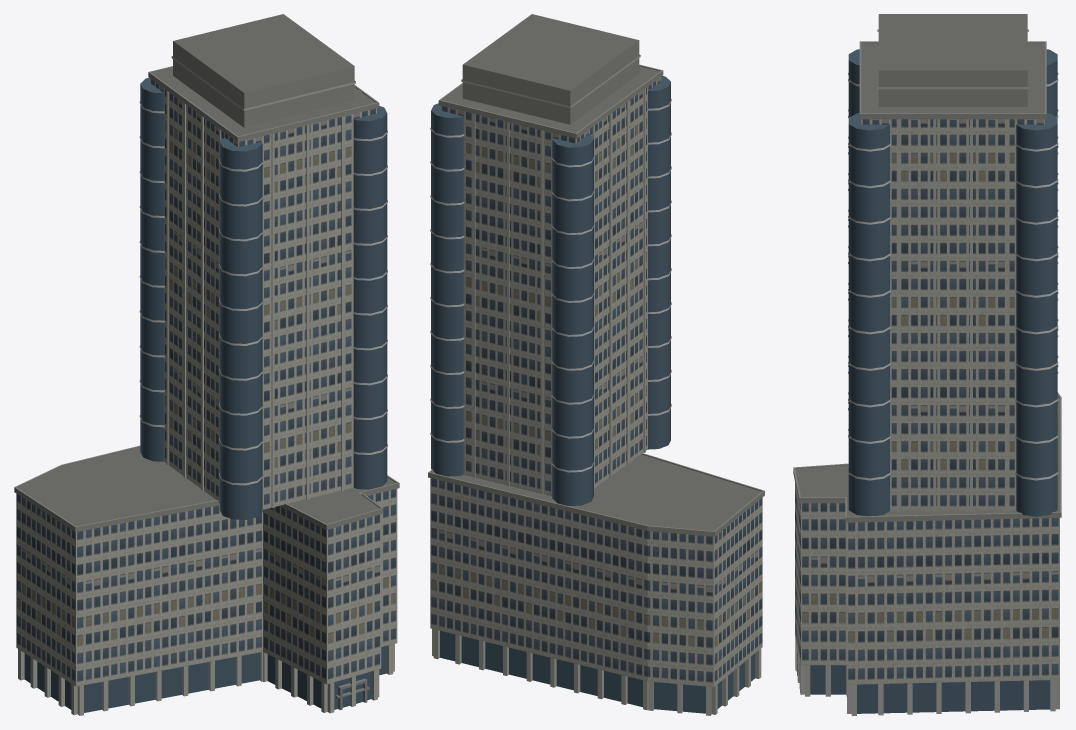
File: four_seasons_757_market.glb
3 views of the same model, side by side, from view 1: azimuth 30°, elevation 25°; view 2: azimuth 150°, elevation 25°; view 3: azimuth 270°, elevation 25° (orthographic). The views are drawn at different scales.
Parts seen in each view (by area): view 1: four_seasons_757_market; view 2: four_seasons_757_market; view 3: four_seasons_757_market.
Boxes of the visible parts, x1=… form: four_seasons_757_market: x1=14, y1=14, x2=399, y2=715; four_seasons_757_market: x1=428, y1=14, x2=764, y2=715; four_seasons_757_market: x1=793, y1=14, x2=1061, y2=715.
Bounding box in the file's own units: 61.63 × 121 × 46.62.
Materials: 2 (2 with a texture image).
